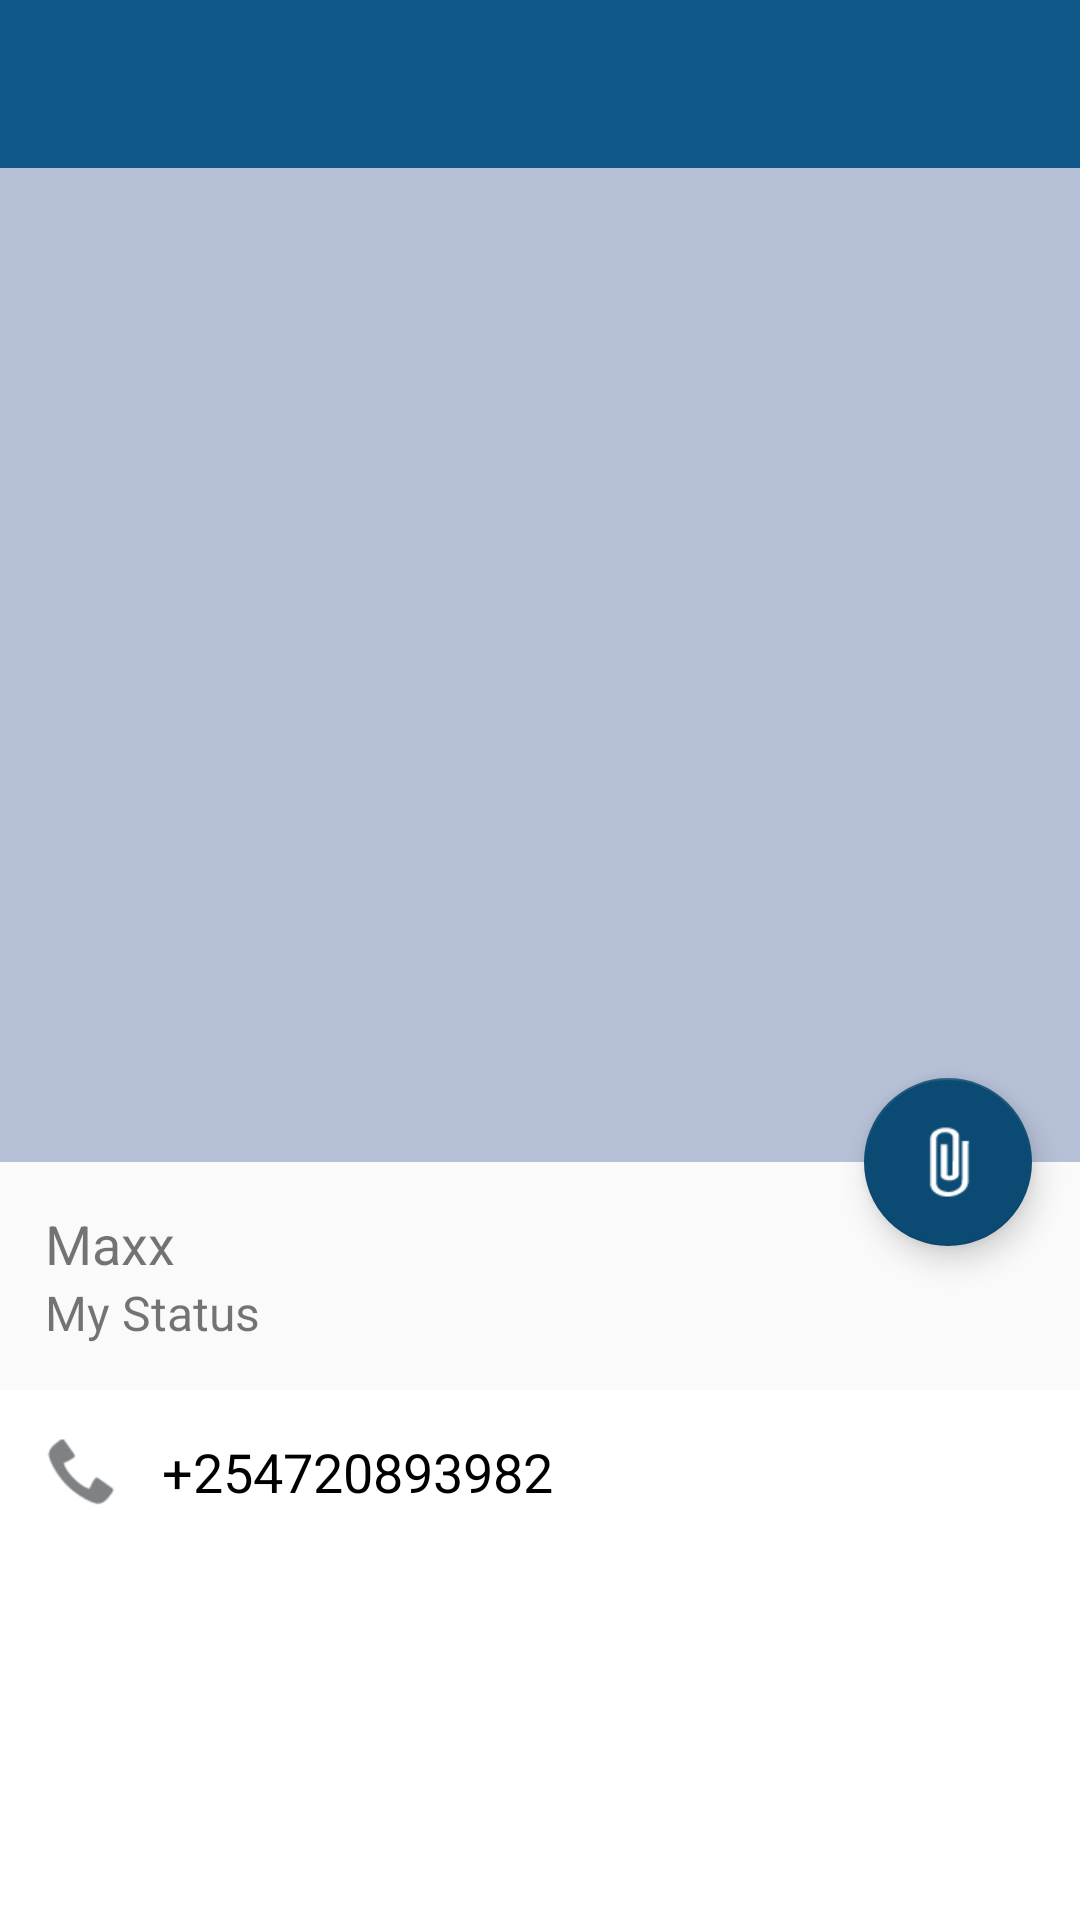

Icon click points for this 1080px×1920px phone screenshot, format (x=x, y=y):
attach: (x=948, y=1162)
phone: (x=81, y=1471)
